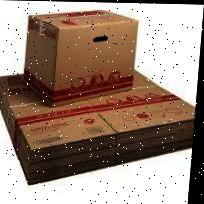cube: (21, 9, 146, 107)
